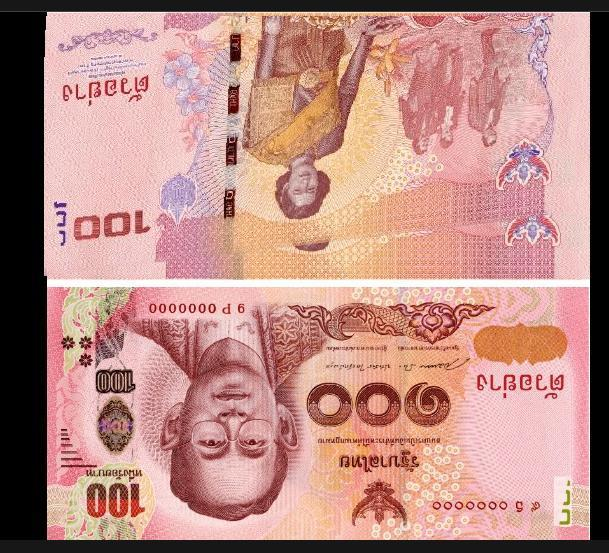100BahtTai: (45, 17, 586, 278)
